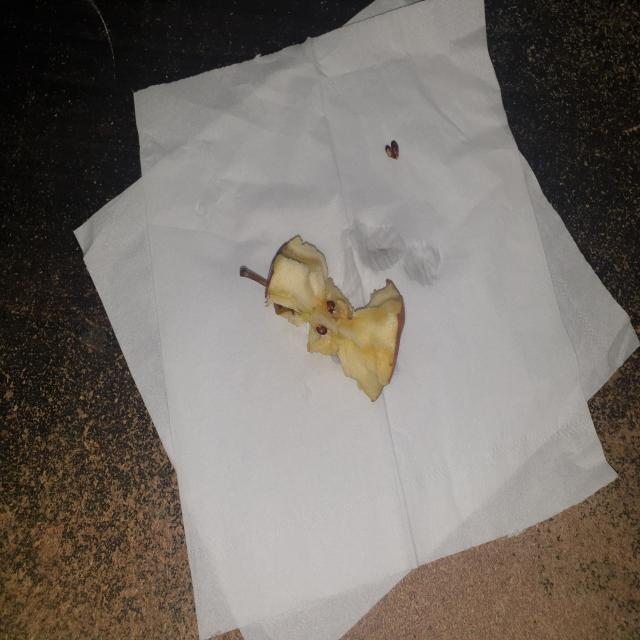apple: (221, 230, 417, 412)
